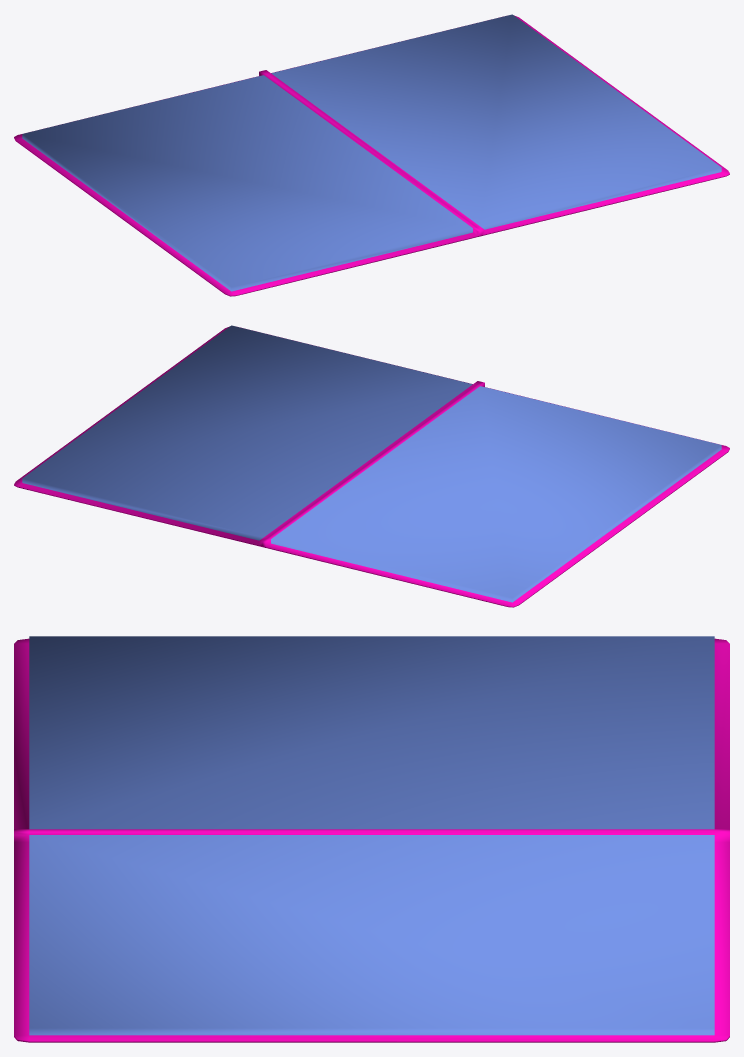
Rendered from Notebook2OPEN.fbx.
3 views of the same model, one above another, from view 1: azimuth 30°, elevation 25°; view 2: azimuth 150°, elevation 25°; view 3: azimuth 270°, elevation 25° (orthographic). The views are drawn at different scales.
Visible parts, largest first — view 1: Cube; view 2: Cube; view 3: Cube.
Boxes of the visible parts, left/top/right/bottom form: Cube: left=14, top=14, right=729, bottom=296; Cube: left=14, top=325, right=729, bottom=607; Cube: left=14, top=636, right=729, bottom=1042.
Bounding box in the file's own units: 266 × 2.85 × 200.
